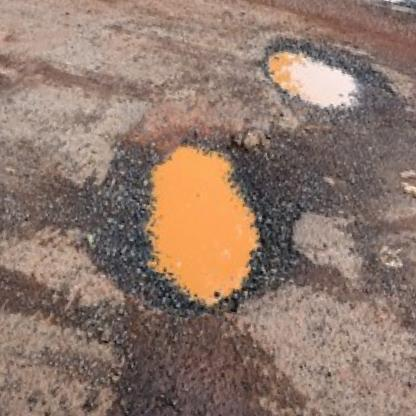pothole: (121, 120, 288, 322), (257, 39, 371, 121), (337, 0, 412, 11)
